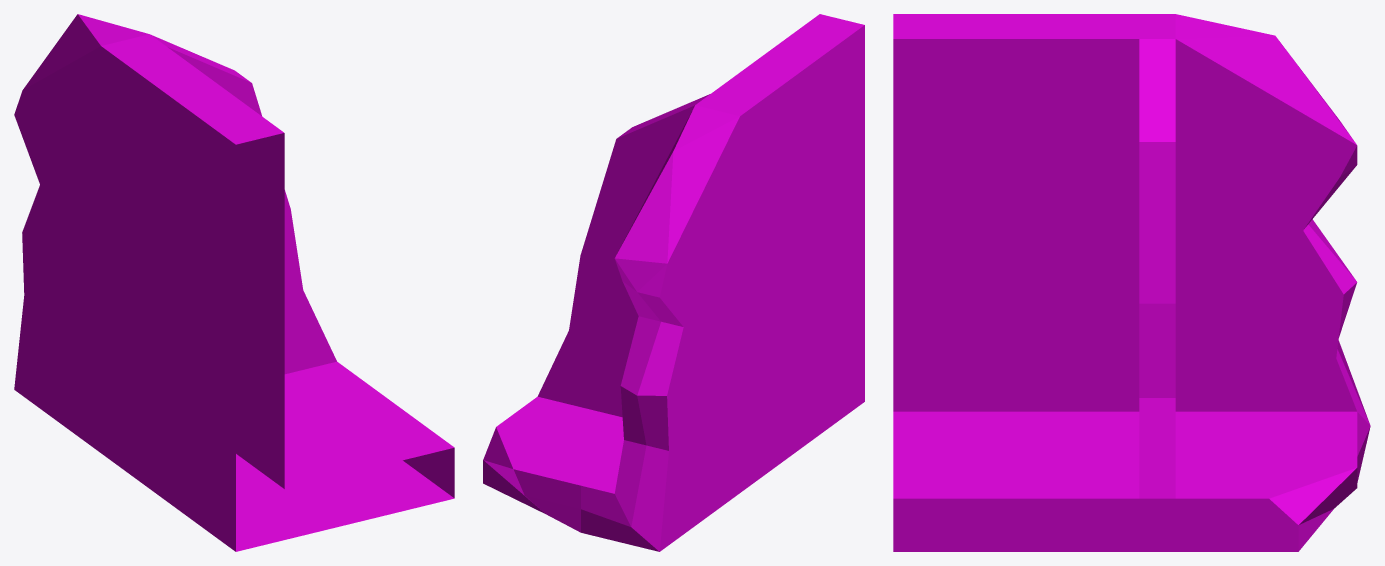
The model's file is RuinCorner.fbx.
The picture shows the model from 3 angles, left to right: view 1: azimuth 30°, elevation 25°; view 2: azimuth 150°, elevation 25°; view 3: azimuth 270°, elevation 25°; orthographic projection. The views are drawn at different scales.
Parts seen in each view (by area): view 1: RuinCorner; view 2: RuinCorner; view 3: RuinCorner.
Part boxes in pixels (left/top/right/bottom): RuinCorner: left=14, top=14, right=454, bottom=551; RuinCorner: left=483, top=14, right=864, bottom=551; RuinCorner: left=893, top=14, right=1370, bottom=551.
Bounding box in the file's own units: 90000 × 160000 × 162397.
